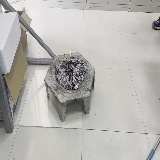fire: (69, 51, 71, 61)
